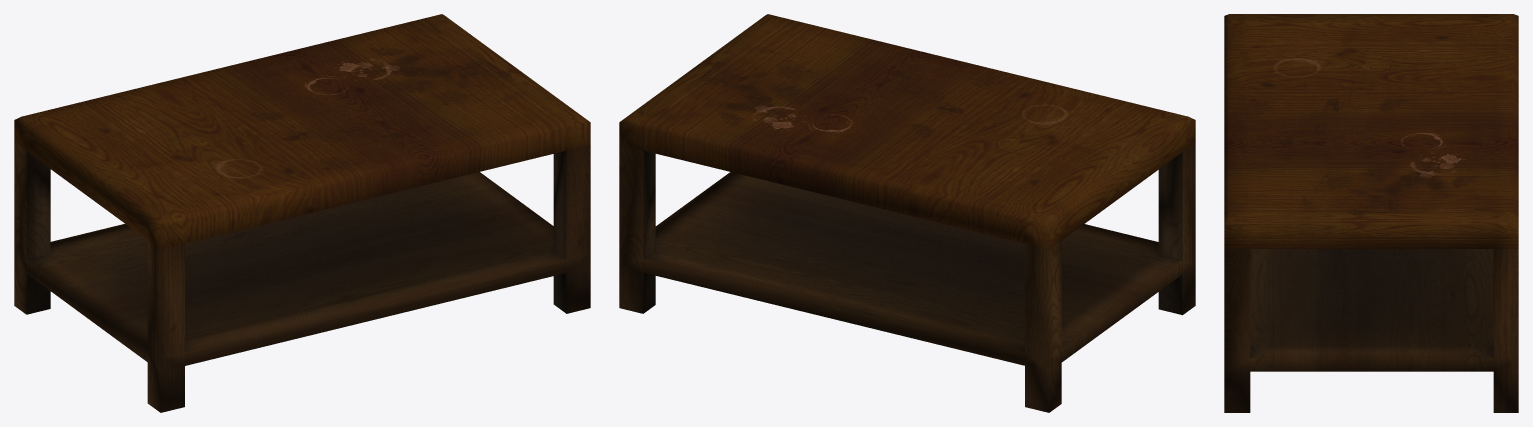
Rendered from CoffeeTableSquare.fbx.
3 views of the same model, side by side, from view 1: azimuth 30°, elevation 25°; view 2: azimuth 150°, elevation 25°; view 3: azimuth 270°, elevation 25° (orthographic).
Parts seen in each view (by area): view 1: Cube; view 2: Cube; view 3: Cube.
Part boxes in pixels (x1,y1,x2,y2): Cube: (14, 14, 590, 412); Cube: (619, 14, 1195, 412); Cube: (1224, 14, 1518, 412).
Bounding box in the file's own units: 4.83 × 2.04 × 2.85.
